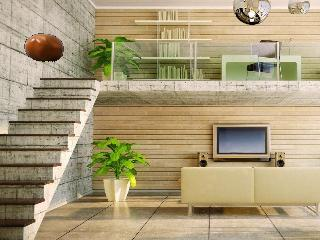potato: (24, 33, 65, 62)
